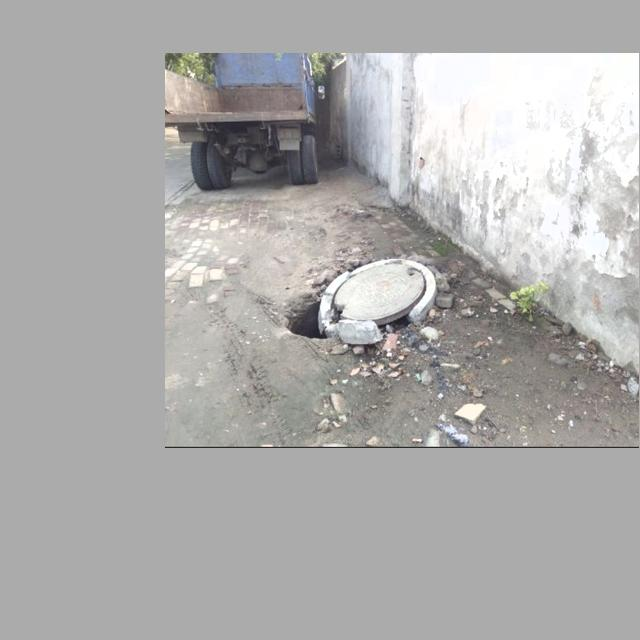circle: (297, 257, 439, 346)
